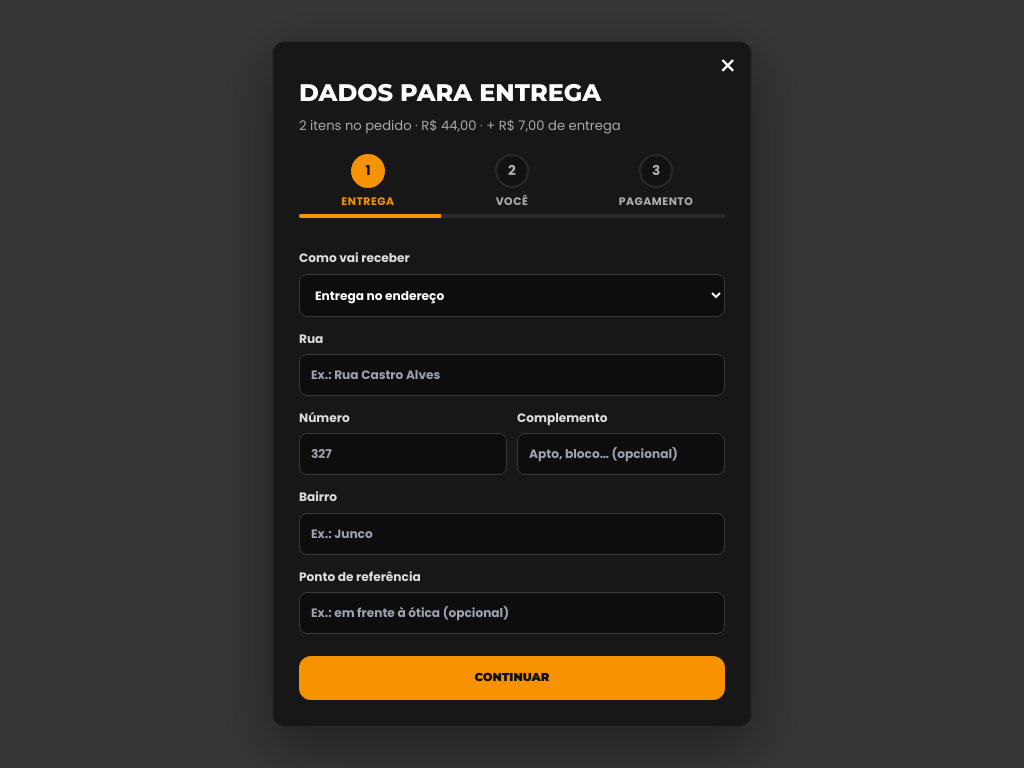
Test: Tela: Modal de pedido › submit no meio do formulário avança etapa em vez de abrir o WhatsApp
Step 1. Type "Rua Central" into the field labelled "Rua" → (512, 375), box [299,354,725,396]
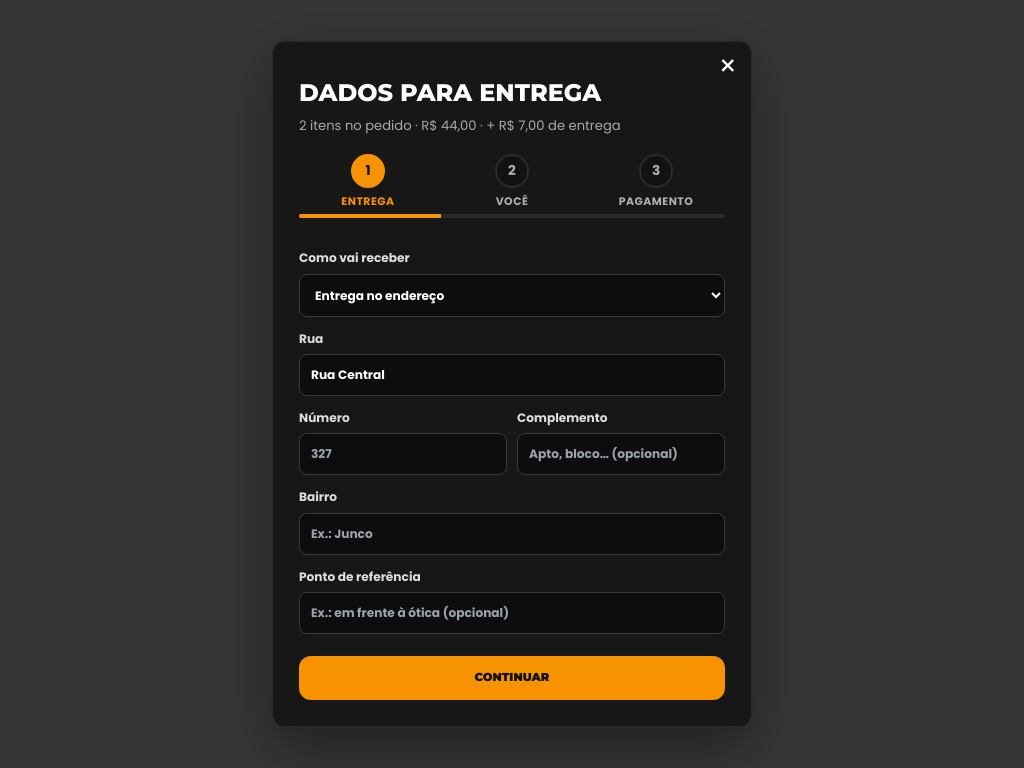
Step 2. Type "10" into the field labelled "Número" → (403, 454), box [299,433,507,476]
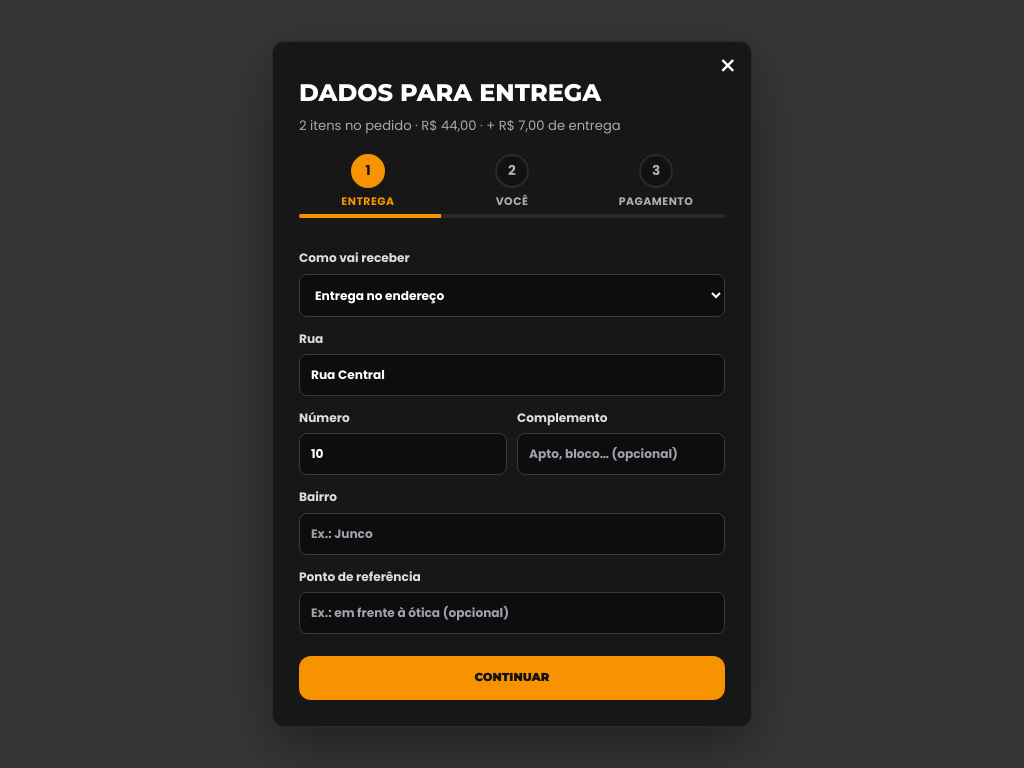
Step 3. Type "Junco" into the field labelled "Bairro" → (512, 534), box [299,513,725,555]
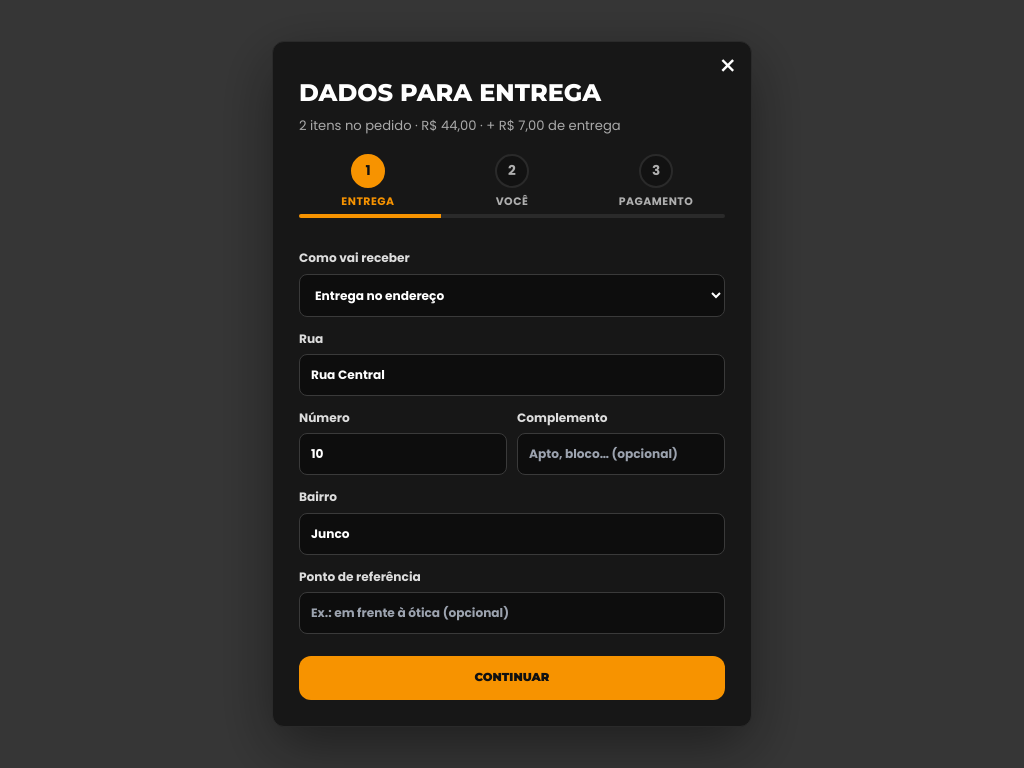
Step 4. Submit the form, box [299,236,725,700]
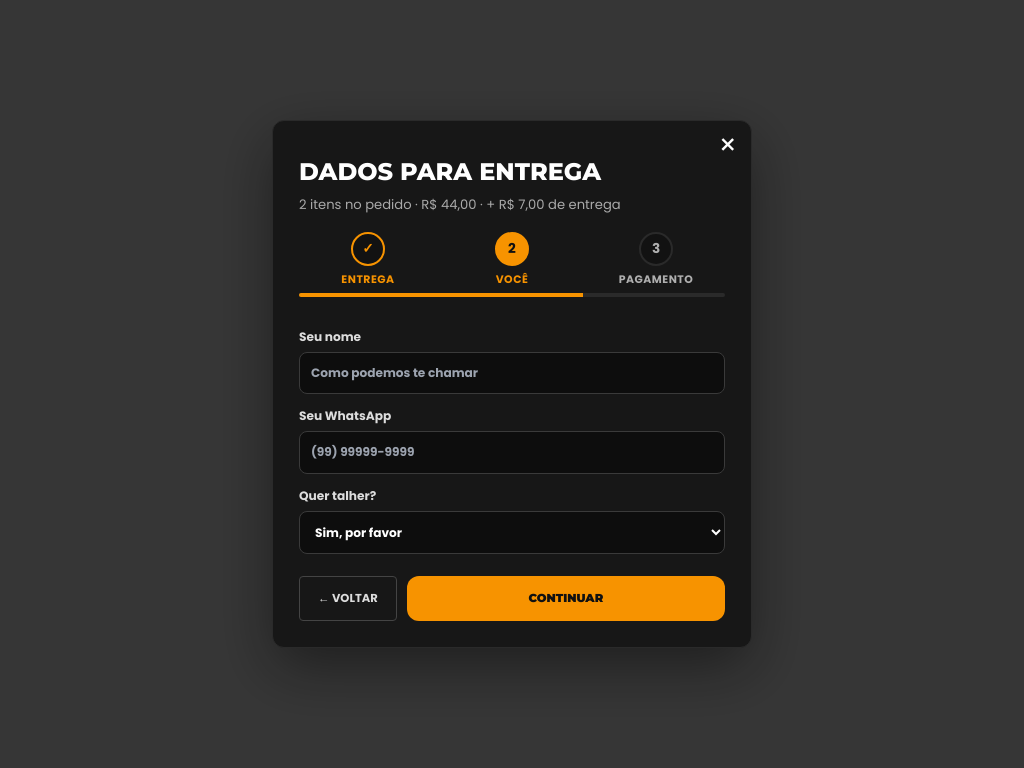
Result: the field labelled "Seu nome" is shown at [299,352,725,394]
